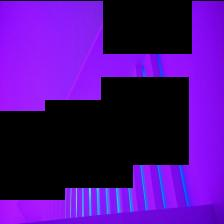purple: (0, 0, 169, 223), (157, 0, 224, 224)
